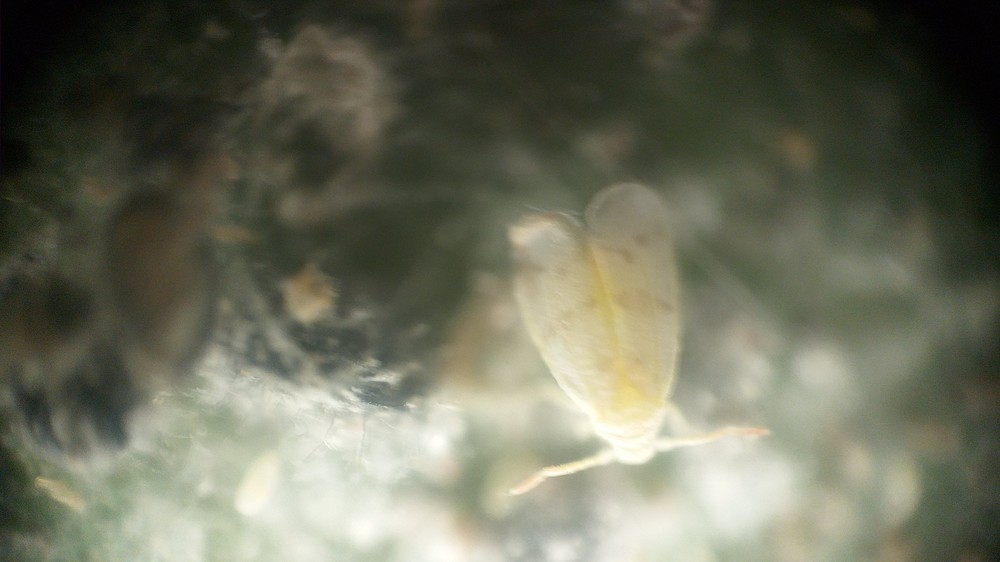Mosca Blanca: (467, 186, 811, 523)
